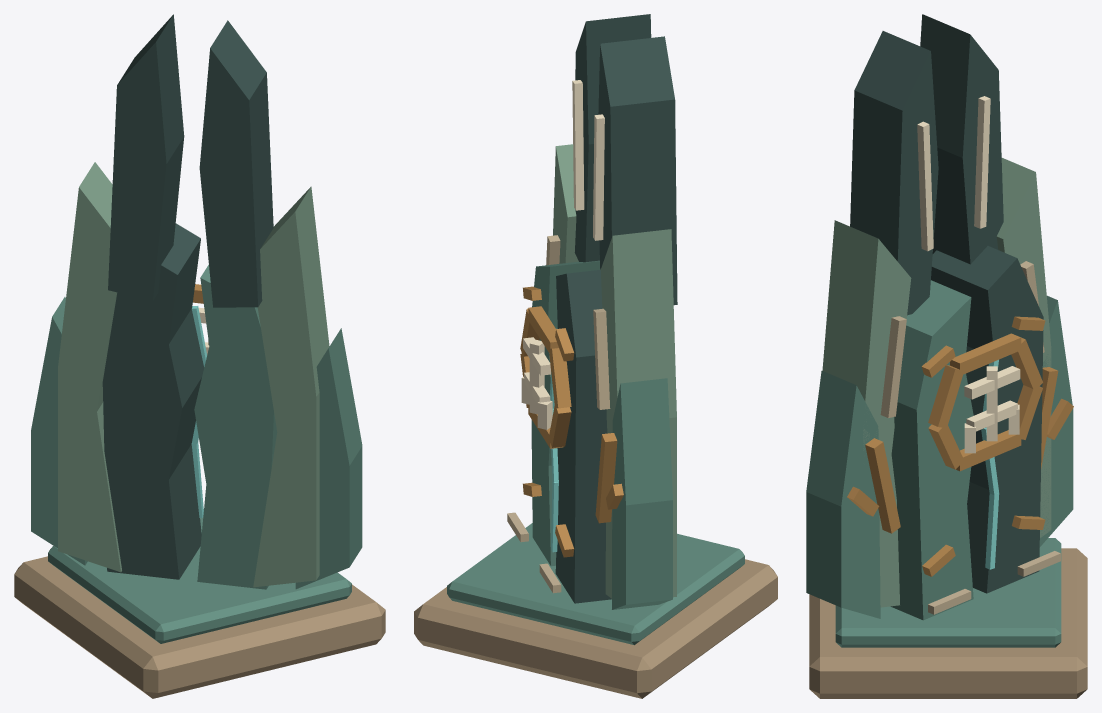
Rendered from Tower_StoneSealL3.fbx.
3 renders of one model, left to right at view 1: azimuth 30°, elevation 25°; view 2: azimuth 150°, elevation 25°; view 3: azimuth 270°, elevation 25°, orthographic. The views are drawn at different scales.
Visible parts, largest first — view 1: Tower_StoneSealL3; view 2: Tower_StoneSealL3; view 3: Tower_StoneSealL3.
Boxes of the visible parts, x1,y1,x2,y2 form: Tower_StoneSealL3: [14, 14, 385, 698]; Tower_StoneSealL3: [414, 14, 777, 698]; Tower_StoneSealL3: [806, 14, 1087, 698].
Size of the model in its own units: 0.9096 by 2.15 by 0.9096.
